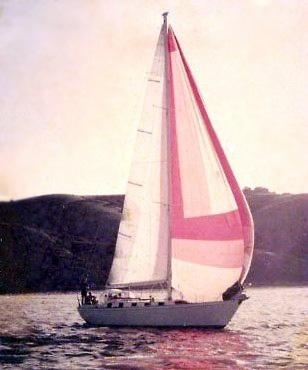boat: (75, 13, 256, 329)
